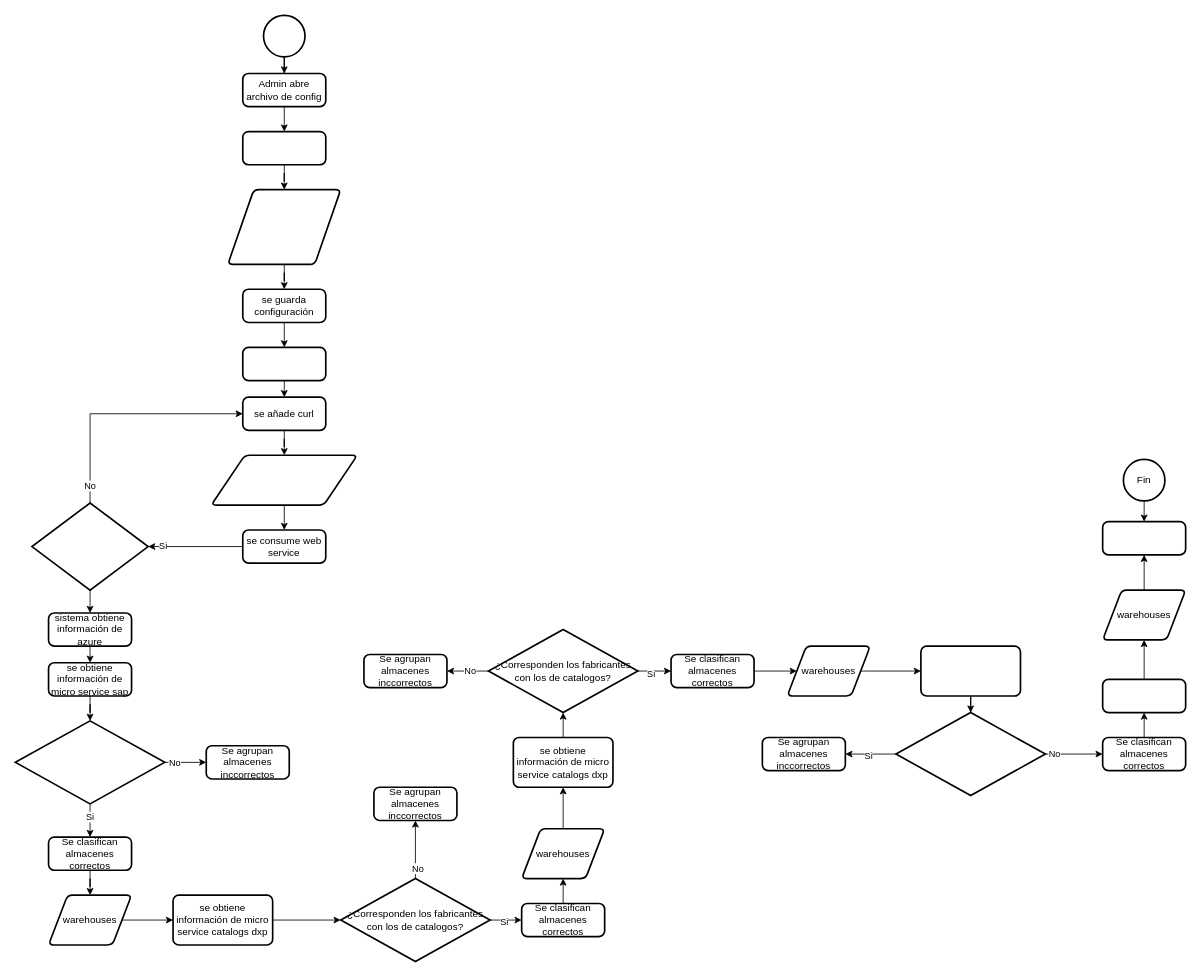
The diagram is 1200 pixels wide and 976 high, and some of its shapes have lost their labels. The centre of each missing label's shape, as x and y in pixels:
"almacen, productos, faricantes, status, excepciones," belongs at (284,226).
"Inicio" belongs at (283,35).
"route end point, token" belongs at (284,479).
"se acualiza archivo en azure" belongs at (284,363).
"se agregan almacenes configurados" belongs at (284,147).
"se insertan almacenes correctos" belongs at (1143,695).
"se validan excepciones" belongs at (970,670).
"sistema muestra almacenes mal configurados" belongs at (1143,537).
"¿Corresponde alguna excepcion con el producto?" belongs at (970,753).
"¿Corresponden los almacenes con los de sap?" belongs at (89,762).
"¿Son correctas las credenciales?" belongs at (90,546).
